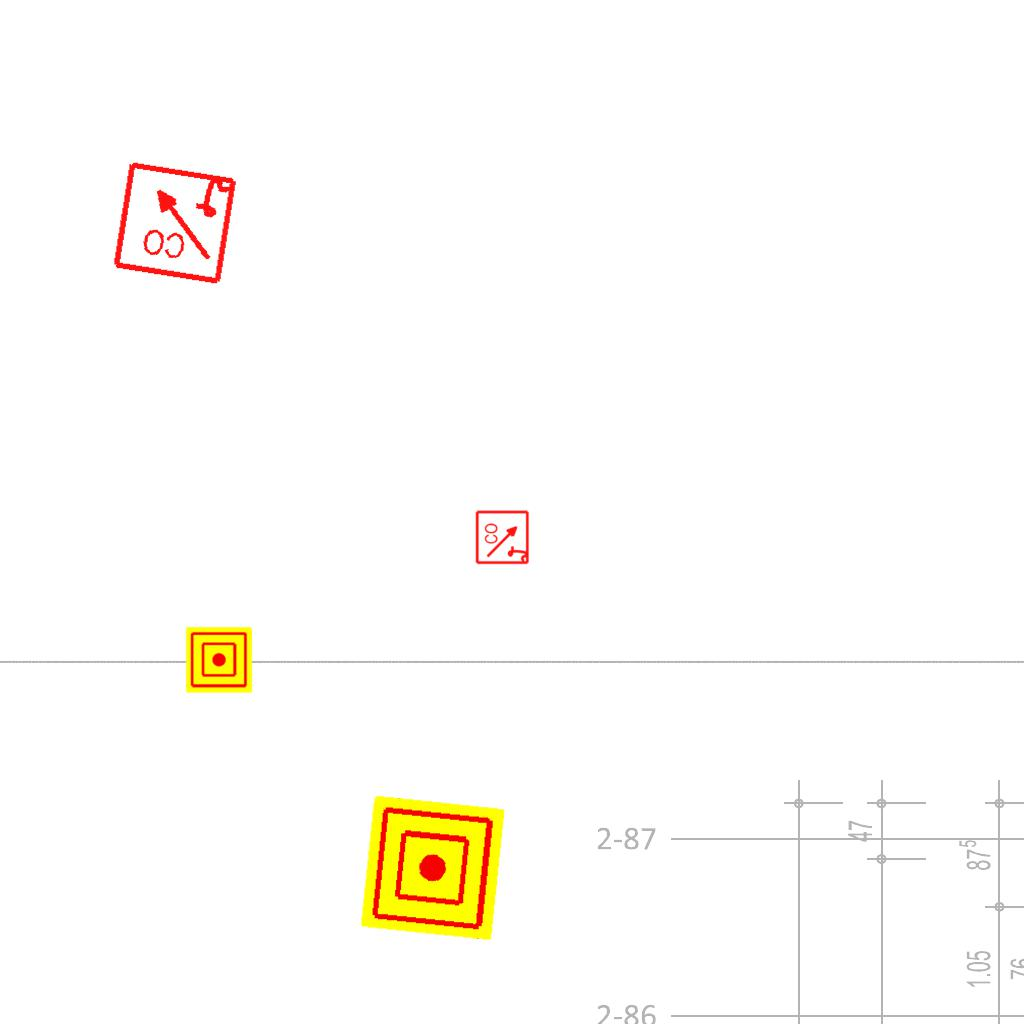NAM-Nichtautomatischer_Melder: (360, 795, 506, 941), (186, 627, 252, 693)
ROA_Rauchmelder_optisch_mit_Signalgeber_(Sockelsirene): (109, 156, 240, 287), (475, 509, 531, 565)
